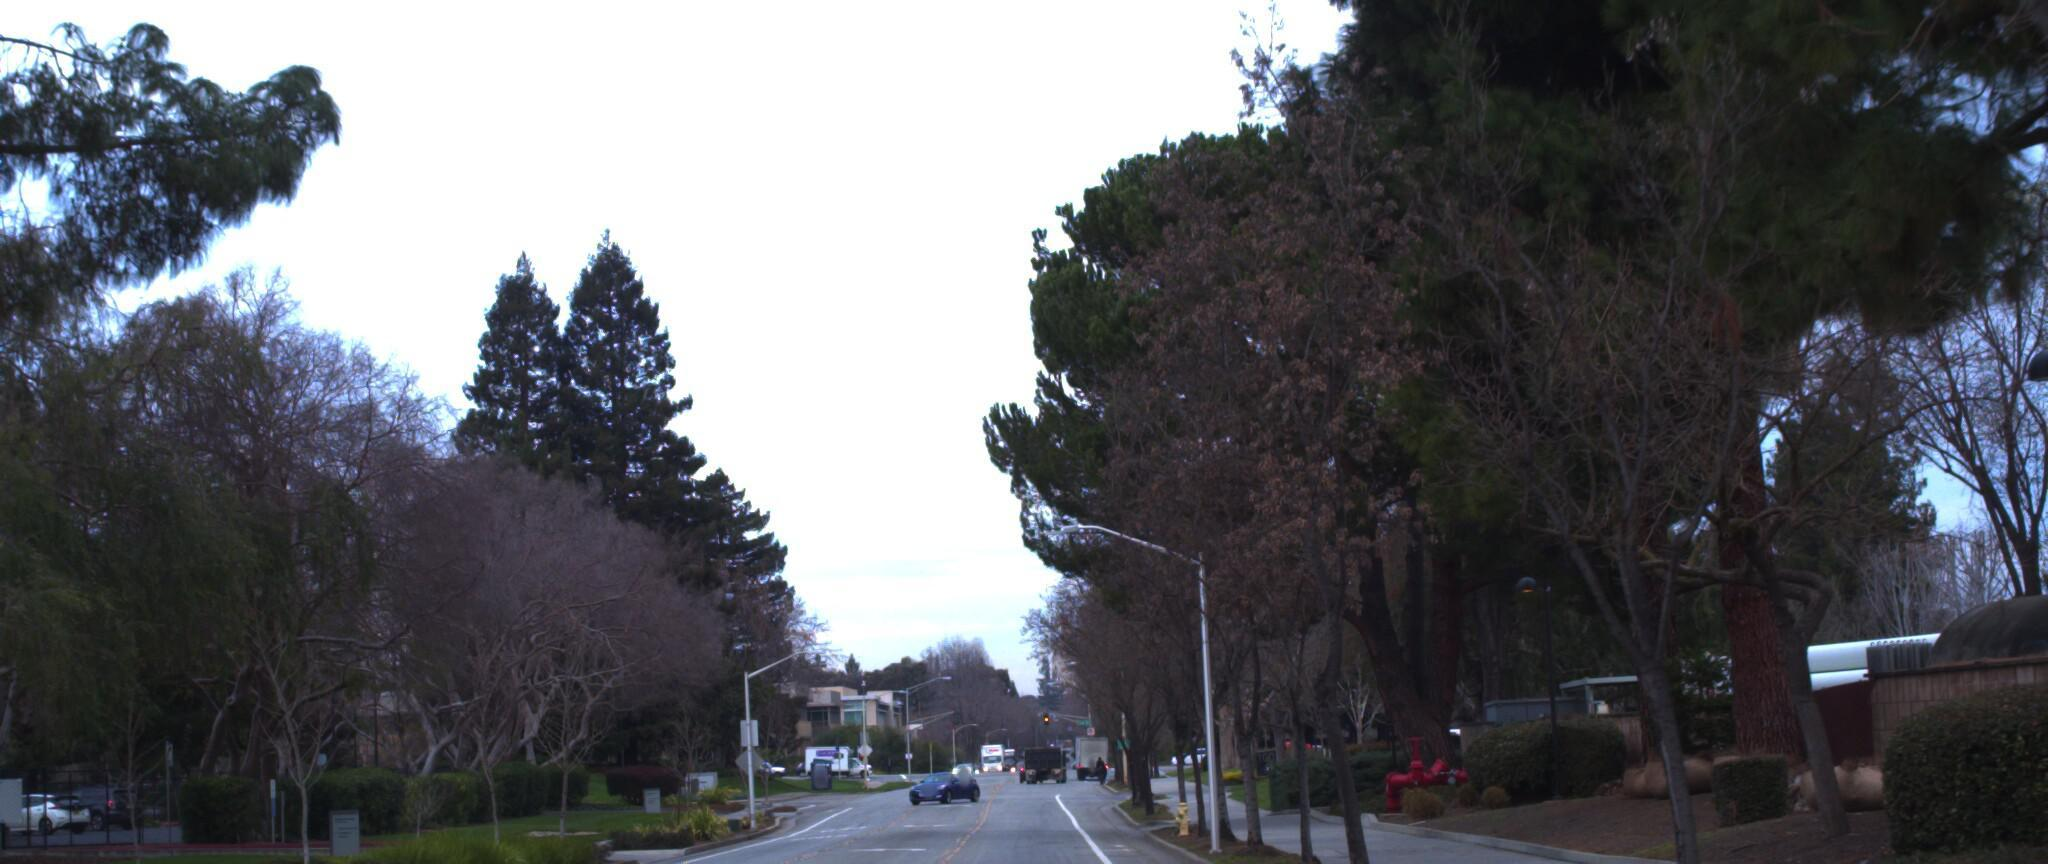other_vehicle: (1677, 613, 2048, 779)
